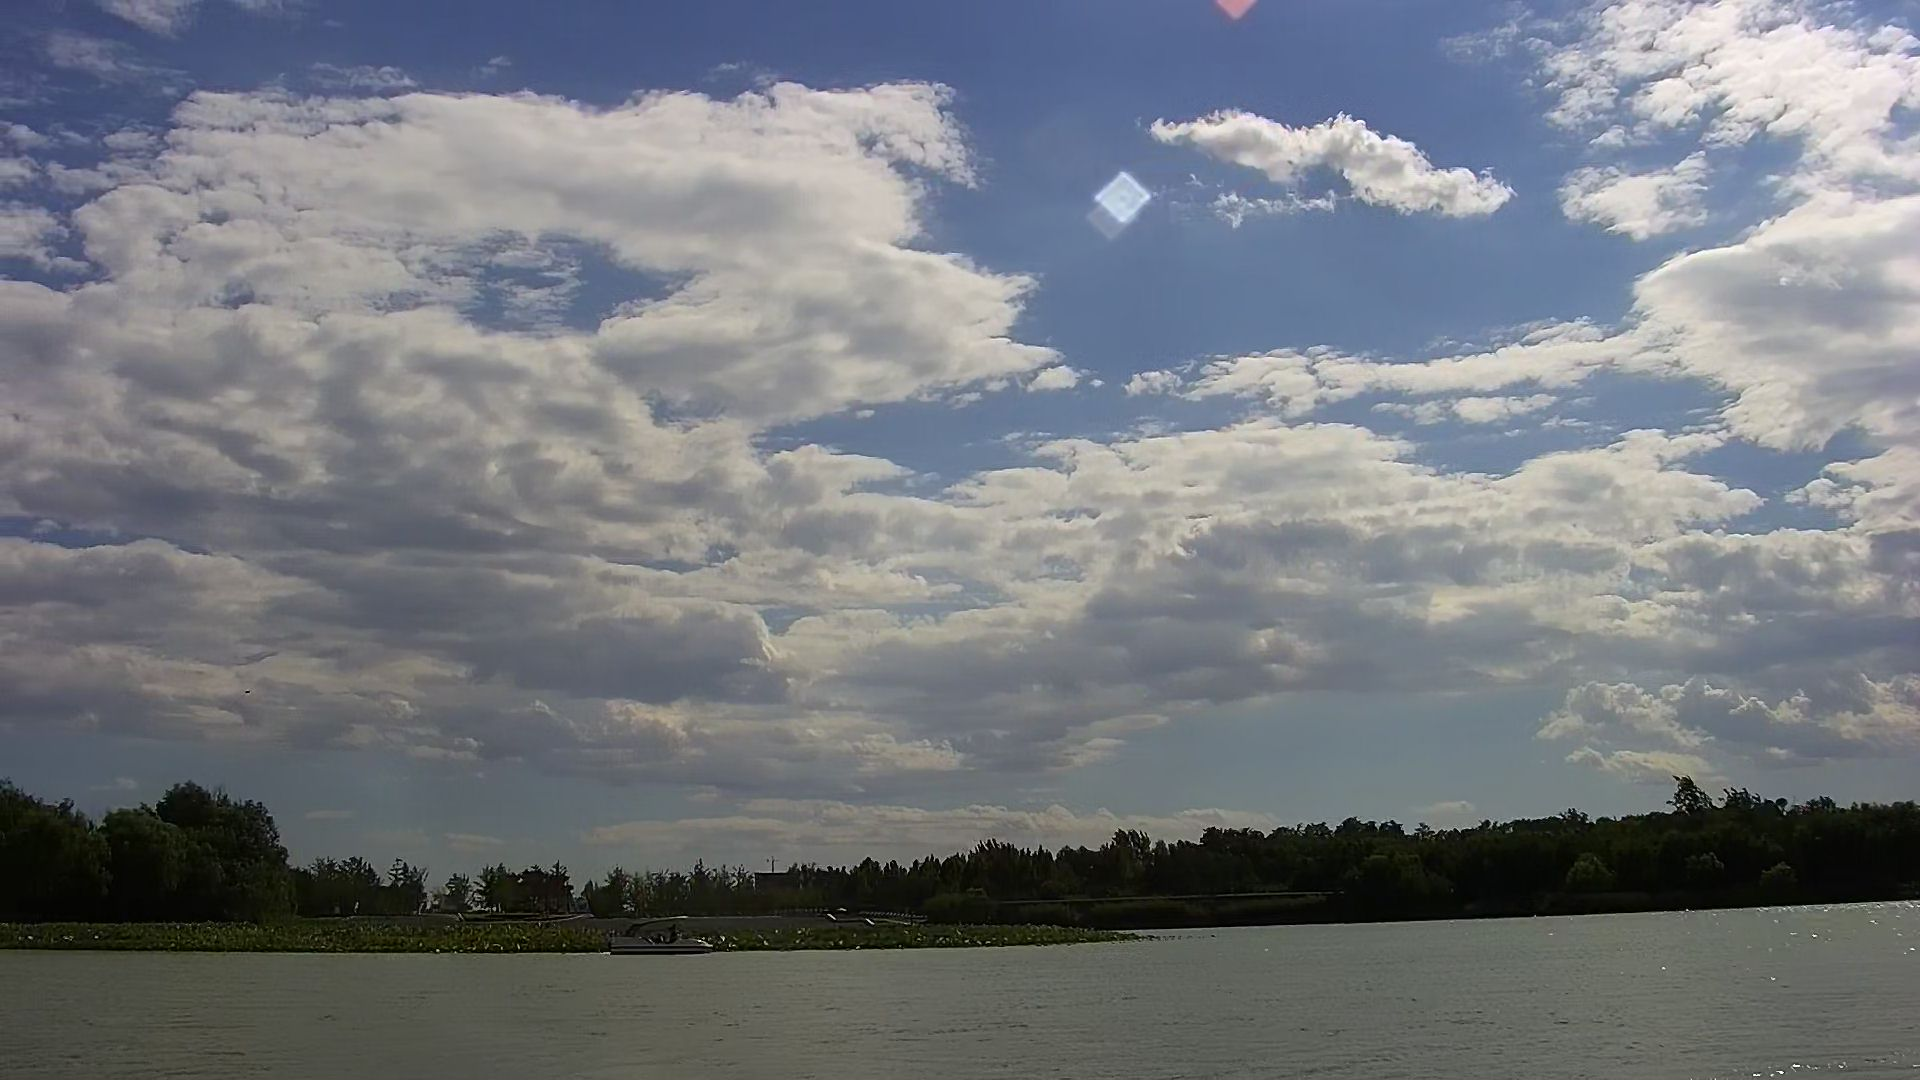boat: (608, 907, 724, 963)
